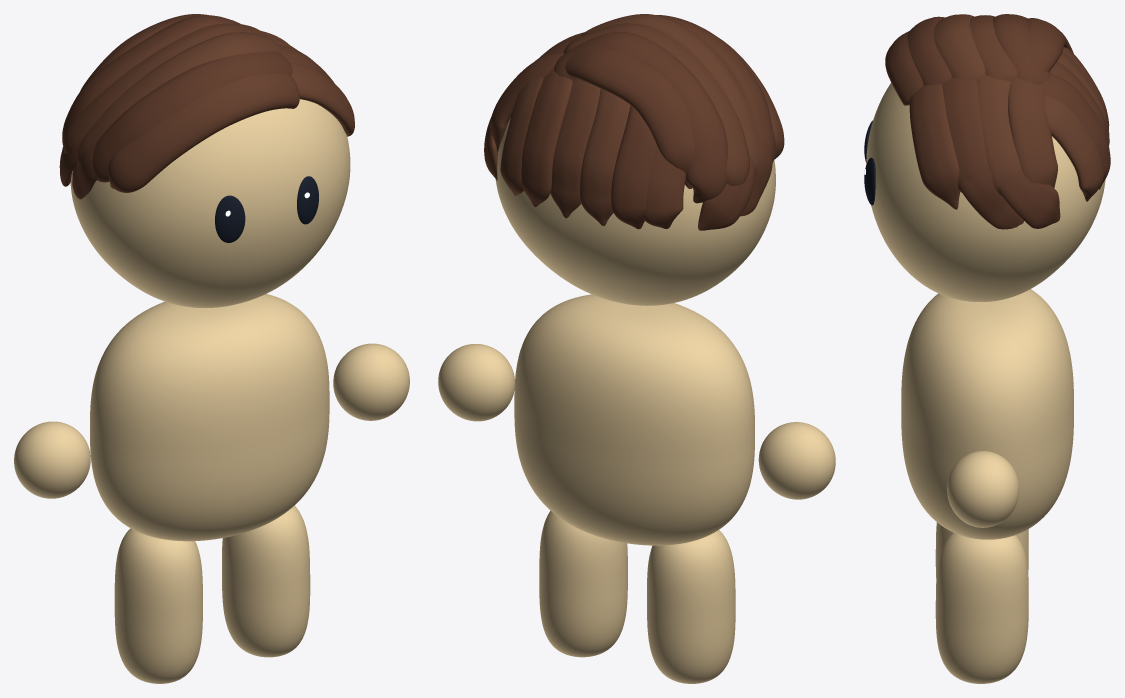
File: Masculine-skin1.glb
3 views of the same model, side by side, from view 1: azimuth 30°, elevation 25°; view 2: azimuth 150°, elevation 25°; view 3: azimuth 270°, elevation 25° (orthographic).
Parts seen in each view (by area): view 1: Skin / compact torso, Skin / soft oval head, Skin / leg -1, Skin / leg 1, Hair / Side part main 0, Hair / Side part main 1, Skin / hand -1, Skin / hand 1, Hair / Side part main 2, Hair / Side part main 3, Hair / Side part main 4, Hair / Side part short 0 (+4 smaller); view 2: Skin / compact torso, Skin / soft oval head, Skin / leg -1, Skin / leg 1, Hair / Side part crown, Hair / Side part main 4, Skin / hand -1, Skin / hand 1, Hair / Side part nape 2, Hair / Side part nape 4, Hair / Side part main 3, Hair / Side part nape 3 (+9 smaller); view 3: Skin / compact torso, Skin / soft oval head, Skin / leg 1, Skin / hand 1, Hair / Side part short 0, Hair / Side part short 3, Hair / Side part short 1, Hair / Side part short 2, Hair / Side part nape 5, Hair / Side part main 2, Hair / Side part low 1 1, Hair / Side part main 4 (+10 smaller).
Boxes of the visible parts, bbox=[...] form: Skin / compact torso: bbox=[90, 294, 329, 541]; Skin / soft oval head: bbox=[70, 99, 350, 307]; Skin / leg -1: bbox=[114, 528, 202, 683]; Skin / leg 1: bbox=[222, 505, 310, 657]; Hair / Side part main 0: bbox=[108, 73, 299, 192]; Hair / Side part main 1: bbox=[92, 51, 292, 182]; Skin / hand -1: bbox=[14, 421, 90, 498]; Skin / hand 1: bbox=[333, 343, 409, 420]; Hair / Side part main 2: bbox=[77, 32, 281, 165]; Hair / Side part main 3: bbox=[63, 23, 266, 153]; Hair / Side part main 4: bbox=[62, 15, 240, 145]; Hair / Side part short 0: bbox=[290, 63, 354, 136]; Skin / compact torso: bbox=[514, 294, 754, 545]; Skin / soft oval head: bbox=[495, 118, 775, 305]; Skin / leg -1: bbox=[647, 530, 735, 683]; Skin / leg 1: bbox=[539, 511, 627, 657]; Hair / Side part crown: bbox=[565, 47, 694, 188]; Hair / Side part main 4: bbox=[554, 32, 727, 203]; Skin / hand -1: bbox=[758, 422, 835, 499]; Skin / hand 1: bbox=[438, 344, 514, 421]; Hair / Side part nape 2: bbox=[580, 88, 630, 226]; Hair / Side part nape 4: bbox=[521, 68, 572, 207]; Hair / Side part main 3: bbox=[563, 23, 749, 185]; Hair / Side part nape 3: bbox=[550, 79, 600, 218]; Skin / compact torso: bbox=[901, 289, 1073, 539]; Skin / soft oval head: bbox=[866, 83, 1105, 301]; Skin / leg 1: bbox=[935, 532, 1028, 683]; Skin / hand 1: bbox=[947, 451, 1019, 527]; Hair / Side part short 0: bbox=[909, 84, 960, 209]; Hair / Side part short 3: bbox=[1008, 77, 1057, 187]; Hair / Side part short 1: bbox=[942, 77, 986, 192]; Hair / Side part short 2: bbox=[977, 74, 1021, 195]; Hair / Side part nape 5: bbox=[1044, 95, 1103, 201]; Hair / Side part main 2: bbox=[933, 14, 985, 80]; Hair / Side part low 1 1: bbox=[999, 170, 1060, 228]; Hair / Side part main 4: bbox=[993, 14, 1050, 84].
Size of the model in its own units: 1.49 by 2.34 by 0.8319.
